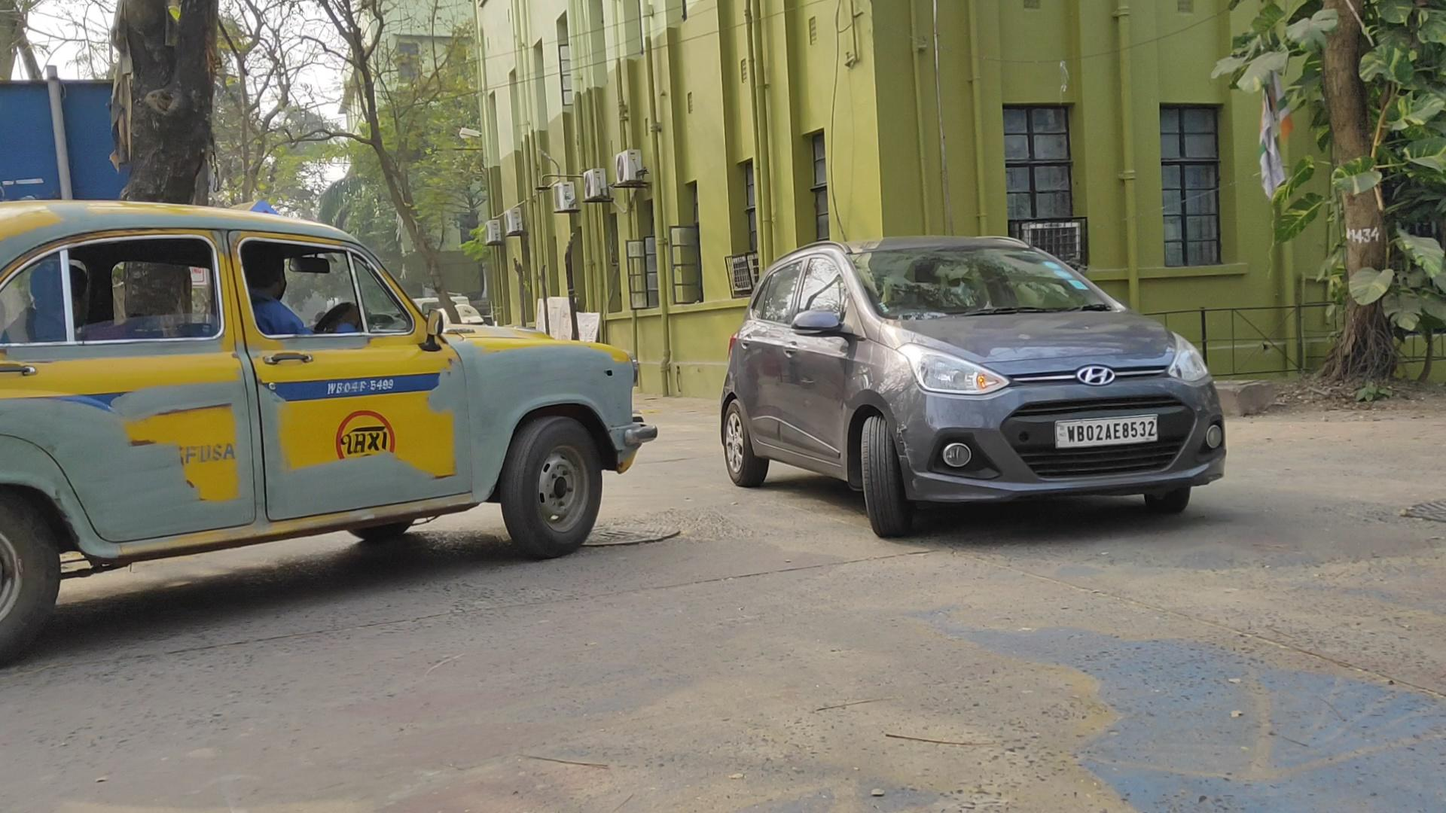car: (1, 191, 660, 667), (720, 233, 1228, 541)
